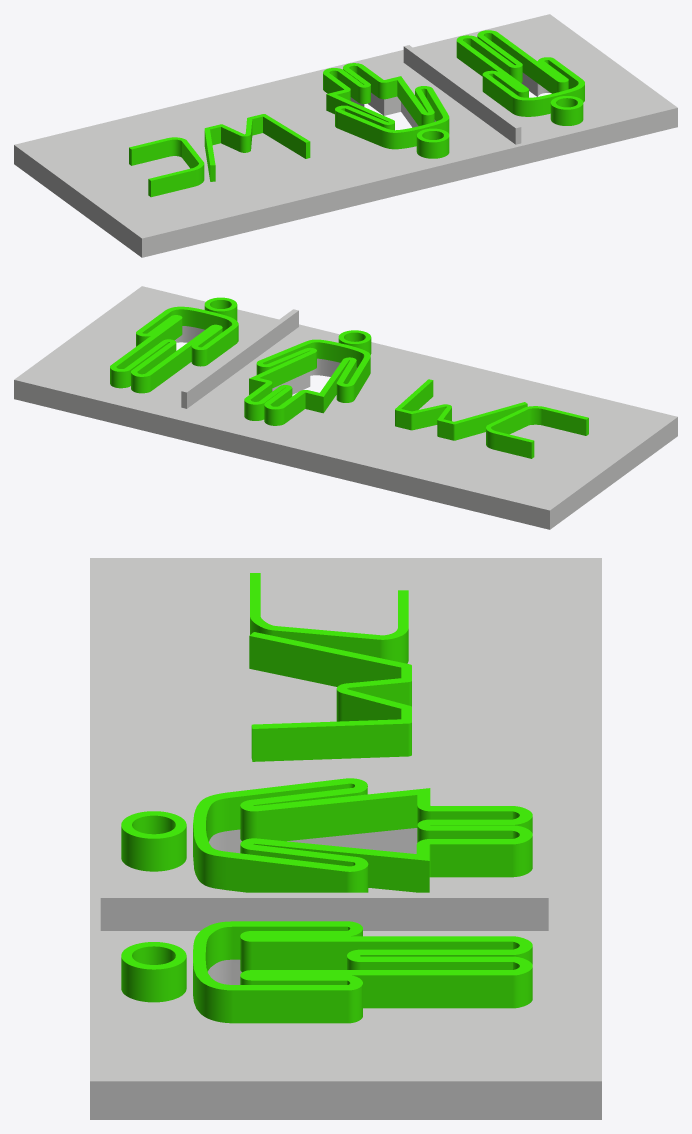
Rendered from wc_fume1.glb.
3 views of the same model, one above another, from view 1: azimuth 30°, elevation 25°; view 2: azimuth 150°, elevation 25°; view 3: azimuth 270°, elevation 25° (orthographic). The views are drawn at different scales.
Visible parts, largest first — view 1: Body30, Body26, Body25, Body29, Body23, Body24, Body27, Body28; view 2: Body30, Body26, Body25, Body23, Body24, Body29, Body27, Body28; view 3: Body30, Body26, Body25, Body29, Body23, Body24, Body27, Body28.
Boxes of the visible parts, x1,y1,x2,y2 form: Body30: [14, 14, 677, 257]; Body26: [323, 63, 449, 149]; Body25: [456, 30, 584, 116]; Body29: [403, 45, 521, 144]; Body23: [204, 114, 310, 181]; Body24: [129, 137, 204, 197]; Body27: [416, 128, 449, 158]; Body28: [550, 96, 583, 125]; Body30: [14, 286, 677, 529]; Body26: [244, 339, 370, 425]; Body25: [110, 306, 238, 393]; Body23: [395, 379, 527, 440]; Body24: [486, 406, 588, 458]; Body29: [181, 309, 298, 408]; Body27: [338, 330, 371, 354]; Body28: [204, 297, 237, 320]; Body30: [90, 558, 601, 1119]; Body26: [193, 778, 532, 892]; Body25: [193, 921, 532, 1023]; Body29: [100, 892, 548, 930]; Body23: [249, 632, 411, 761]; Body24: [250, 573, 408, 663]; Body27: [121, 811, 186, 871]; Body28: [121, 942, 186, 1002].
Bounding box in the file's own units: 0.58 × 0.037 × 0.24.
